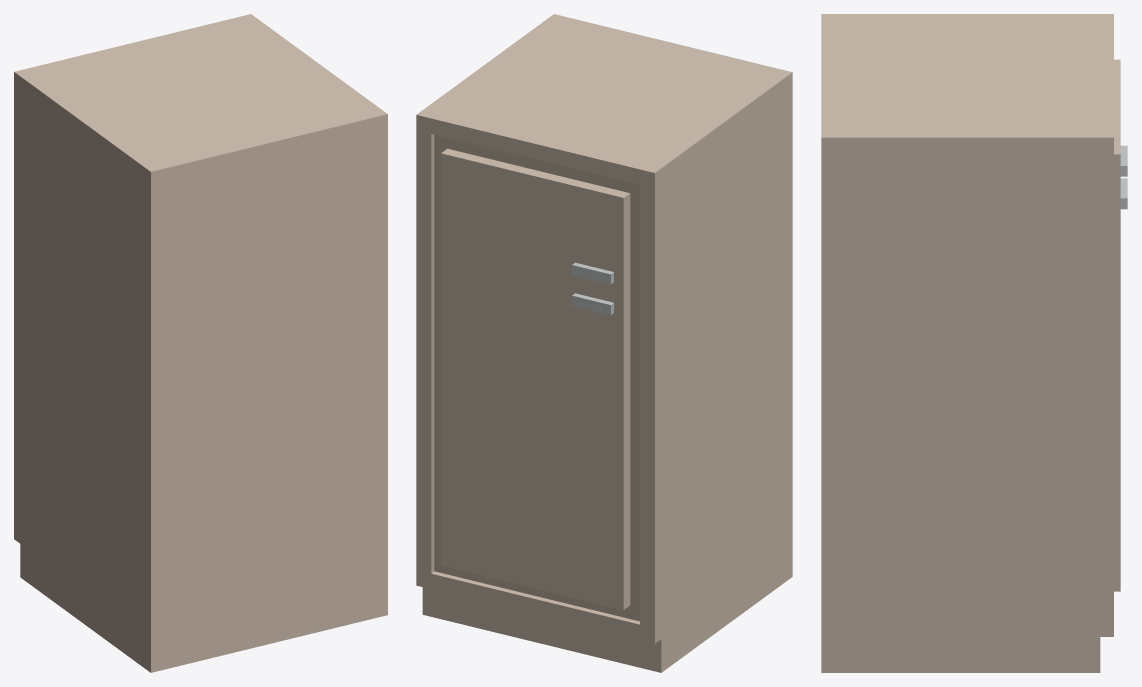
File: furn_kitchenFridgeBuiltIn.glb
The picture shows the model from 3 angles, left to right: view 1: azimuth 30°, elevation 25°; view 2: azimuth 150°, elevation 25°; view 3: azimuth 270°, elevation 25°; orthographic projection. The views are drawn at different scales.
Size of the model in its own units: 0.86 by 1.74 by 0.9.
